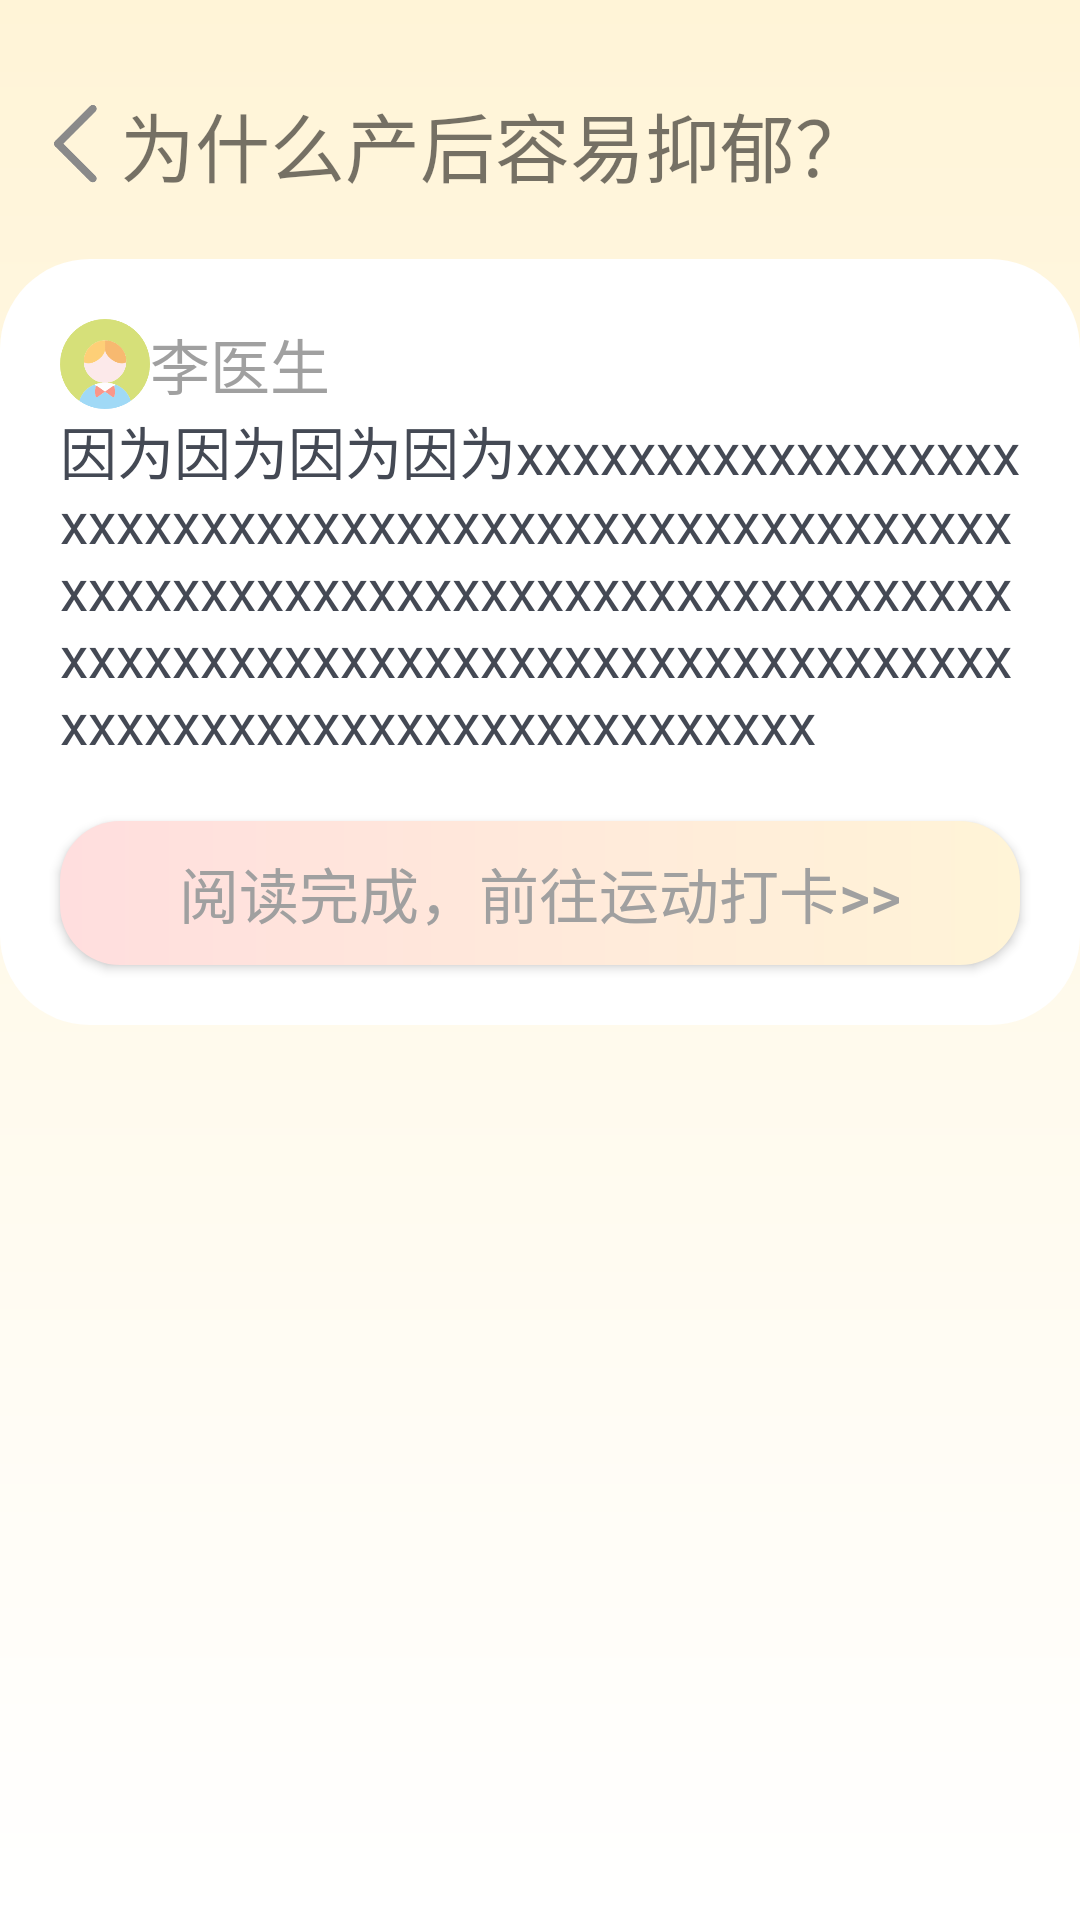

Where icons sit on this 1080w x 1920h app screen, as (x1, y1, x2, y2):
back: (54, 105, 97, 182)
head: (60, 319, 150, 409)
